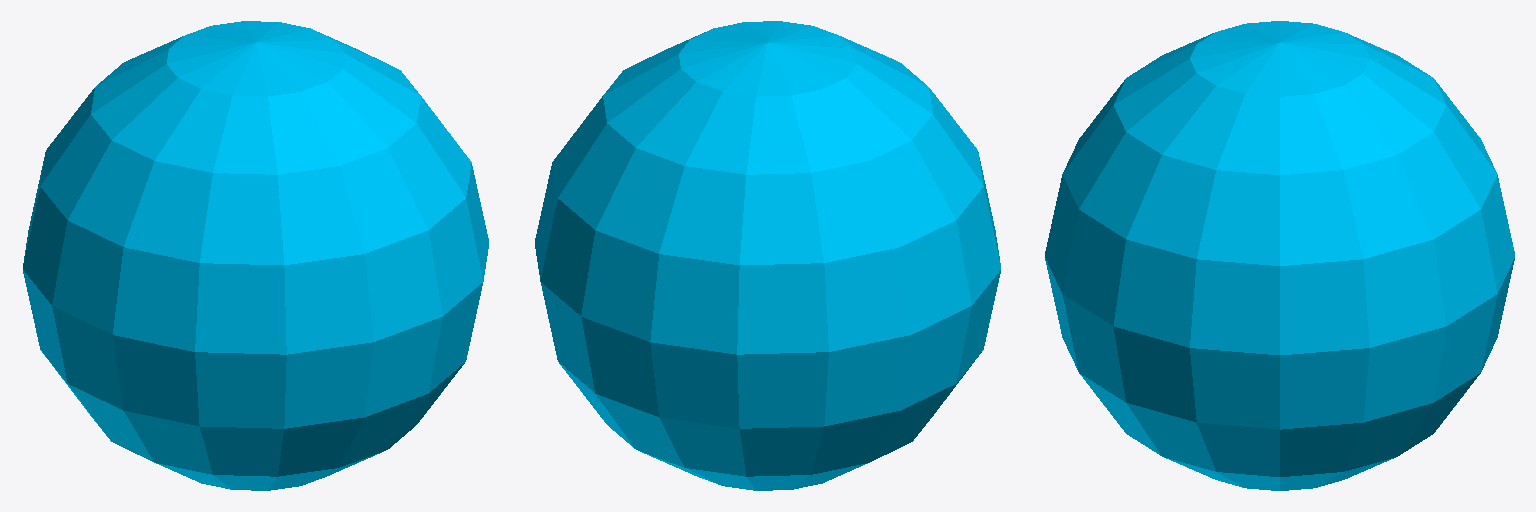
3 renders of one model, left to right at view 1: azimuth 30°, elevation 25°; view 2: azimuth 150°, elevation 25°; view 3: azimuth 270°, elevation 25°, orthographic.
Visible parts, largest first — view 1: 球; view 2: 球; view 3: 球.
Boxes of the visible parts, <box> form: 球: <box>23,21,488,490</box>; 球: <box>535,21,1000,490</box>; 球: <box>1045,21,1514,490</box>.
Size of the model in its own units: 2 by 2 by 2.
Materials: 1 (1 with a texture image).